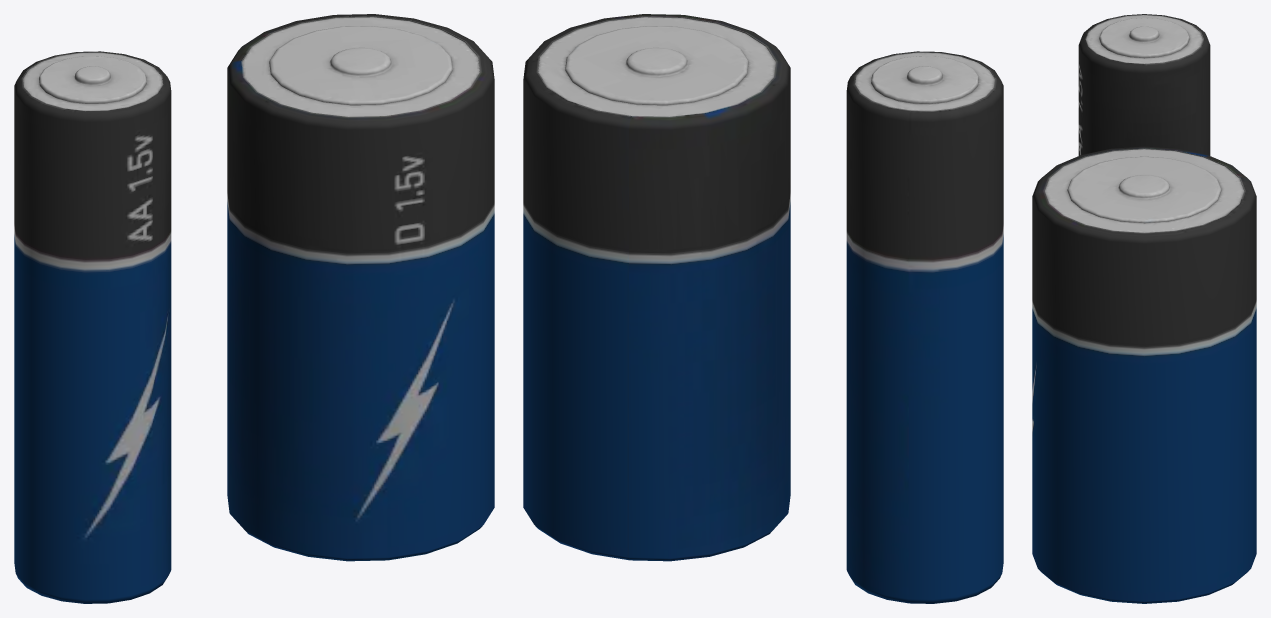
Rendered from s_pila.glb.
3 renders of one model, left to right at view 1: azimuth 30°, elevation 25°; view 2: azimuth 150°, elevation 25°; view 3: azimuth 270°, elevation 25°, orthographic. The views are drawn at different scales.
Parts seen in each view (by area): view 1: Household_Batteries2_lambert1_0; view 2: Household_Batteries2_lambert1_0; view 3: Household_Batteries2_lambert1_0.
Boxes of the visible parts, x1,y1,x2,y2 form: Household_Batteries2_lambert1_0: (14,14,494,603); Household_Batteries2_lambert1_0: (523,14,1003,603); Household_Batteries2_lambert1_0: (1032,14,1256,603).
Size of the model in its own units: 0.0567 by 0.06 by 0.0291.
1 material, 1 textured.
